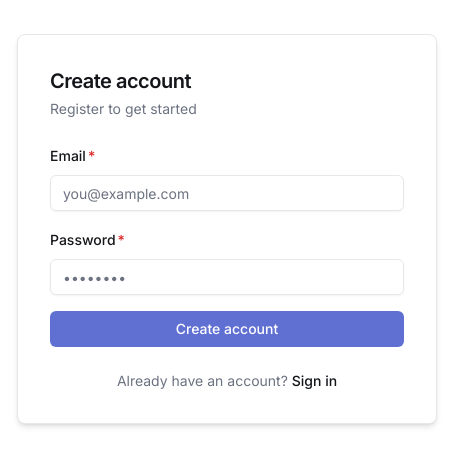
Test: RegisterPage › shows a server error message on failure
Type "new@example.com" into the field labelled "Email*" at (227,193), box [50, 175, 404, 211]
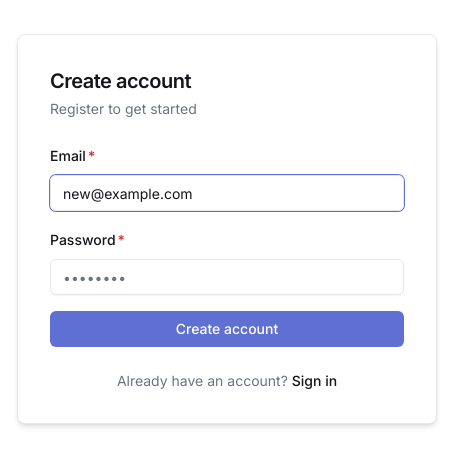
Type "password123" into the password field labelled "Password*" at (227,277), box [50, 259, 404, 295]
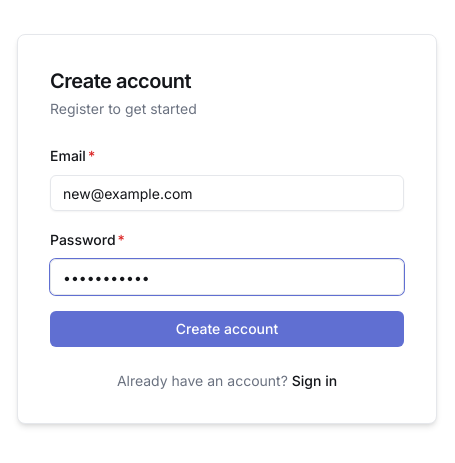
Click the button "Create account" at (227,329), box [50, 311, 404, 347]
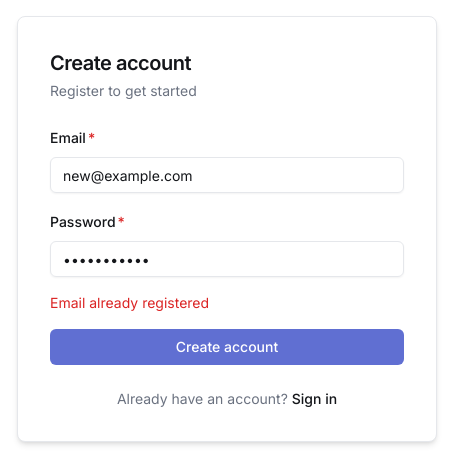
Expected: the text "Email already registered" is shown, [50, 294, 209, 311]
